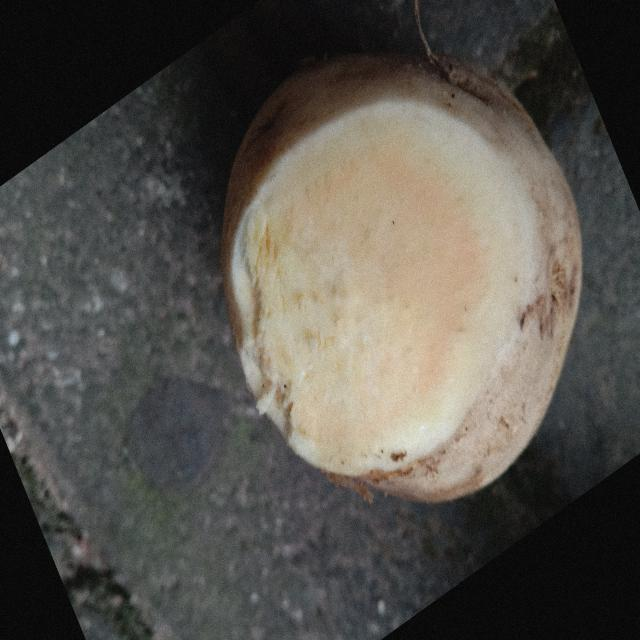Healthy Sweet Potato: (231, 100, 536, 477)
